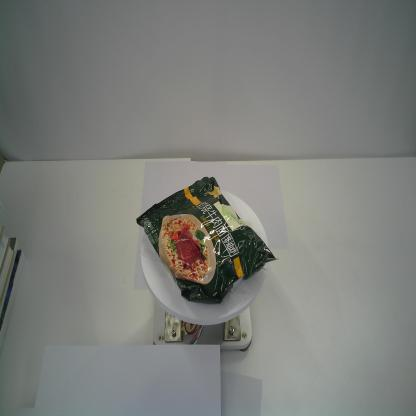Instant Noodles: (135, 176, 277, 307)
